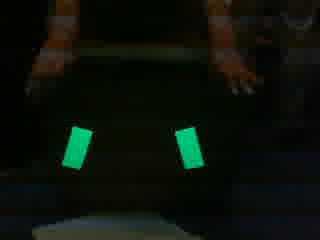target: (56, 123, 210, 171)
